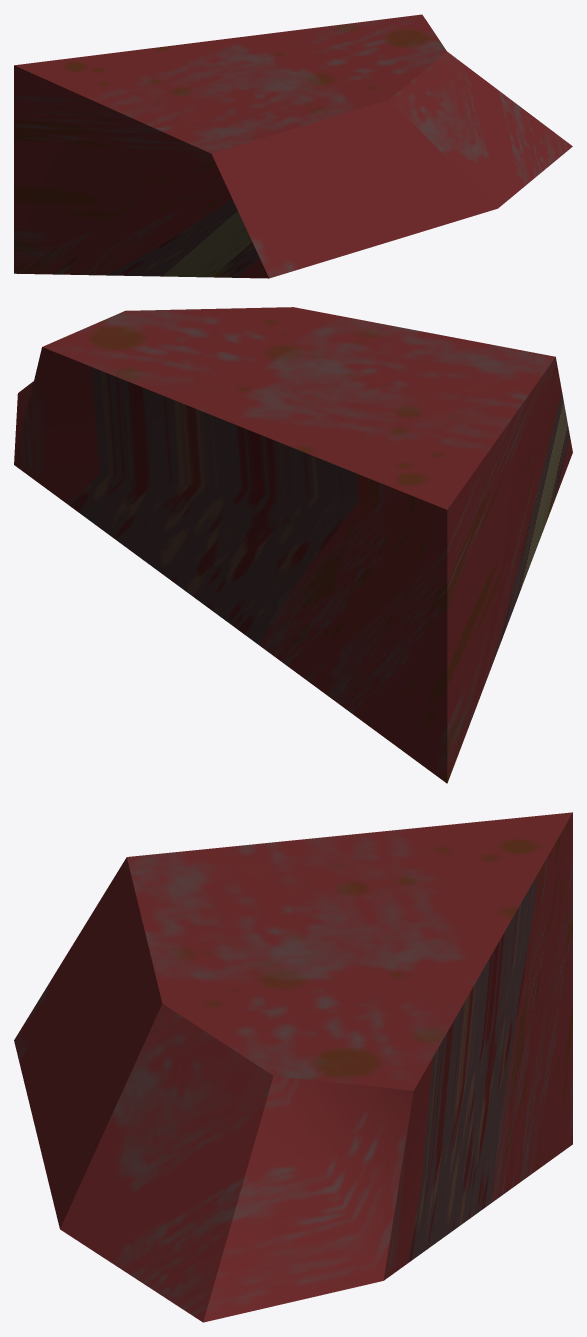
The model's file is ishi_03_07_2.fbx.
3 renders of one model, top to bottom at view 1: azimuth 30°, elevation 25°; view 2: azimuth 150°, elevation 25°; view 3: azimuth 270°, elevation 25°, orthographic. The views are drawn at different scales.
Parts seen in each view (by area): view 1: polySurface50; view 2: polySurface50; view 3: polySurface50.
Boxes of the visible parts, left/top/right/bottom form: polySurface50: left=14, top=14, right=572, bottom=278; polySurface50: left=14, top=307, right=572, bottom=783; polySurface50: left=14, top=812, right=572, bottom=1322.
Bounding box in the file's own units: 11.42 × 5.14 × 7.84.
Materials: 1 (1 with a texture image).
